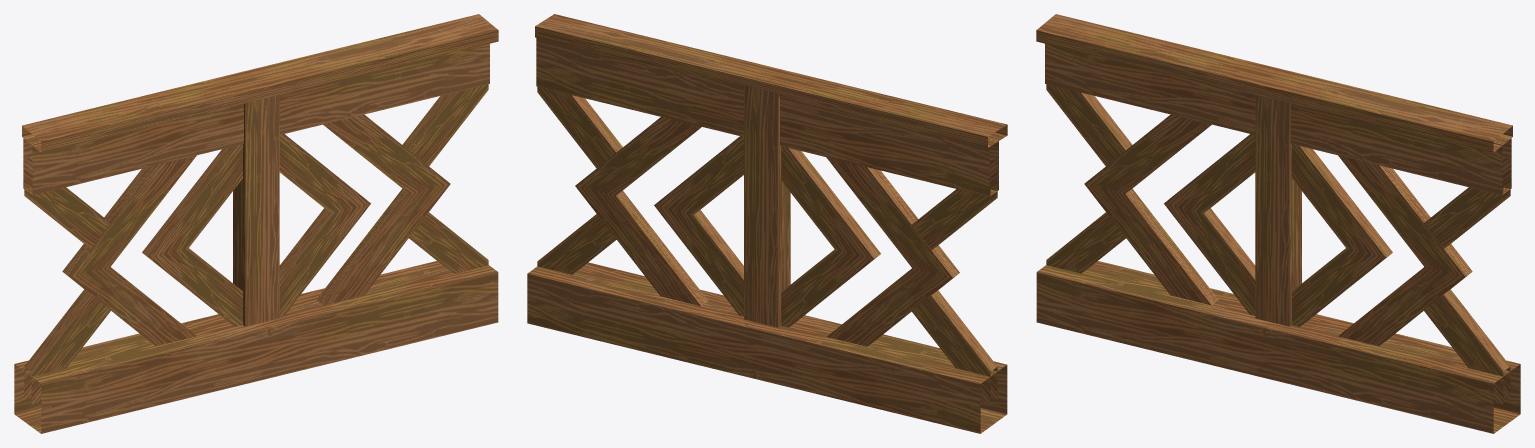
File: Balcony_Cross_Straight.gltf
3 renders of one model, left to right at view 1: azimuth 30°, elevation 25°; view 2: azimuth 150°, elevation 25°; view 3: azimuth 330°, elevation 25°, orthographic.
Parts seen in each view (by area): view 1: Balcony_Cross_Straight; view 2: Balcony_Cross_Straight; view 3: Balcony_Cross_Straight.
Boxes of the visible parts, x1,y1,x2,y2 form: Balcony_Cross_Straight: (14, 14, 498, 433); Balcony_Cross_Straight: (527, 14, 1007, 433); Balcony_Cross_Straight: (1036, 14, 1520, 433).
Bounding box in the file's own units: 2 × 1.23 × 0.2063.
Materials: 1 (1 with a texture image).
